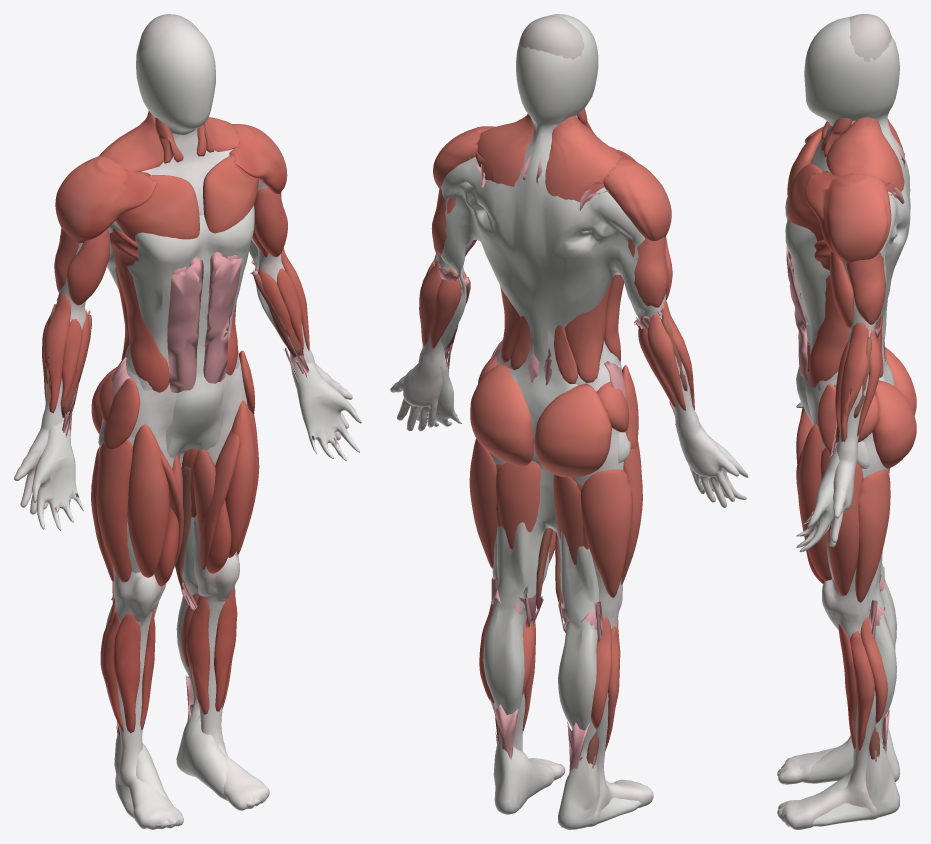
Rendered from kaizen_anatomy_mobile.glb.
The picture shows the model from 3 angles, left to right: view 1: azimuth 30°, elevation 25°; view 2: azimuth 150°, elevation 25°; view 3: azimuth 270°, elevation 25°; orthographic projection. The views are drawn at different scales.
Parts seen in each view (by area): view 1: neutral.body, neutral.studio, muscle.rectus_femoris.r, muscle.vastus_lateralis.r, connective.rectus_sheath.r, muscle.pectoralis_major.r, muscle.deltoideus_lateral.r, connective.rectus_sheath.l, muscle.pectoralis_major.l, muscle.rectus_femoris.l, muscle.obliquus_externus.r, muscle.vastus_medialis.l (+26 smaller); view 2: neutral.body, neutral.studio, muscle.gluteus_maximus.r, muscle.biceps_femoris.r, muscle.gluteus_maximus.l, muscle.trapezius.r, muscle.semimembranosus.l, muscle.trapezius.l, muscle.biceps_femoris.l, muscle.deltoideus_lateral.r, muscle.latissimus_dorsi.r, muscle.triceps_brachii.r (+19 smaller); view 3: neutral.body, neutral.studio, muscle.deltoideus_lateral.l, muscle.trapezius.l, muscle.biceps_femoris.l, muscle.gluteus_maximus.l, muscle.rectus_femoris.l, muscle.vastus_lateralis.l, muscle.obliquus_externus.l, muscle.triceps_brachii.l, muscle.brachioradialis.l, muscle.fibularis_longus.l (+17 smaller).
Boxes of the visible parts, x1,y1,x2,y2 form: neutral.body: (32,24,361,826); neutral.studio: (14,14,352,829); muscle.rectus_femoris.r: (127,424,169,577); muscle.vastus_lateralis.r: (96,439,132,582); connective.rectus_sheath.r: (167,258,203,392); muscle.pectoralis_major.r: (115,175,199,241); muscle.deltoideus_lateral.r: (55,157,122,242); connective.rectus_sheath.l: (203,253,242,383); muscle.pectoralis_major.l: (203,155,258,233); muscle.rectus_femoris.l: (225,400,255,557); muscle.obliquus_externus.r: (114,257,169,392); muscle.vastus_medialis.l: (193,449,231,573); neutral.body: (416,14,748,829); neutral.studio: (390,16,739,826); muscle.gluteus_maximus.r: (534,383,611,477); muscle.biceps_femoris.r: (581,469,632,598); muscle.gluteus_maximus.l: (470,363,533,466); muscle.trapezius.r: (545,115,622,202); muscle.semimembranosus.l: (496,461,540,548); muscle.trapezius.l: (475,114,534,186); muscle.biceps_femoris.l: (469,438,497,568); muscle.deltoideus_lateral.r: (617,157,671,240); muscle.latissimus_dorsi.r: (565,276,613,382); muscle.triceps_brachii.r: (628,237,668,307); neutral.body: (777,16,910,826); neutral.studio: (778,14,891,829); muscle.deltoideus_lateral.l: (827,173,888,263); muscle.trapezius.l: (826,117,904,198); muscle.biceps_femoris.l: (855,469,890,602); muscle.gluteus_maximus.l: (872,380,916,468); muscle.rectus_femoris.l: (797,424,831,580); muscle.vastus_lateralis.l: (820,447,863,595); muscle.obliquus_externus.l: (808,275,849,387); muscle.triceps_brachii.l: (846,252,885,324); muscle.brachioradialis.l: (840,322,868,441); muscle.fibularis_longus.l: (850,631,874,752).
Size of the model in its own units: 0.8271 by 1.81 by 0.2915.
